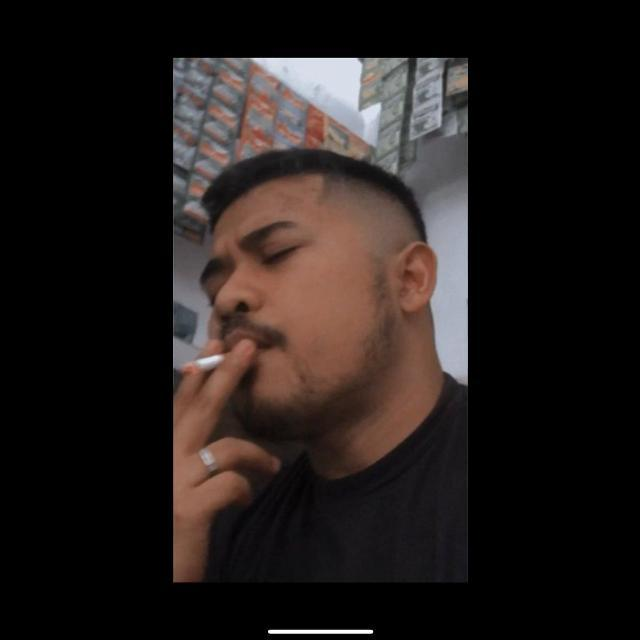rokok: (172, 346, 232, 380)
